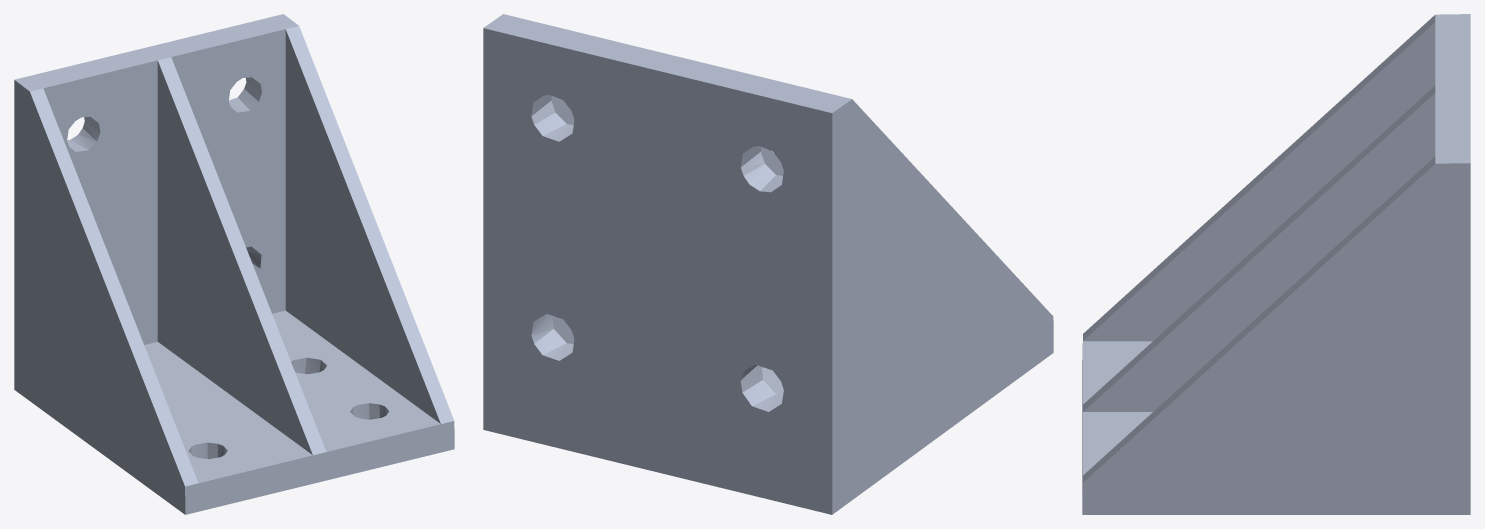
File: body_link0_00.obj
The picture shows the model from 3 angles, left to right: view 1: azimuth 30°, elevation 25°; view 2: azimuth 150°, elevation 25°; view 3: azimuth 270°, elevation 25°; orthographic projection. The views are drawn at different scales.
Visible parts, largest first — view 1: body_link0_00; view 2: body_link0_00; view 3: body_link0_00.
Part boxes in pixels (<box>): body_link0_00: <box>14,14,454,514</box>; body_link0_00: <box>483,14,1053,514</box>; body_link0_00: <box>1082,14,1470,514</box>.
Bounding box in the file's own units: 0.05 × 0.055 × 0.055.
